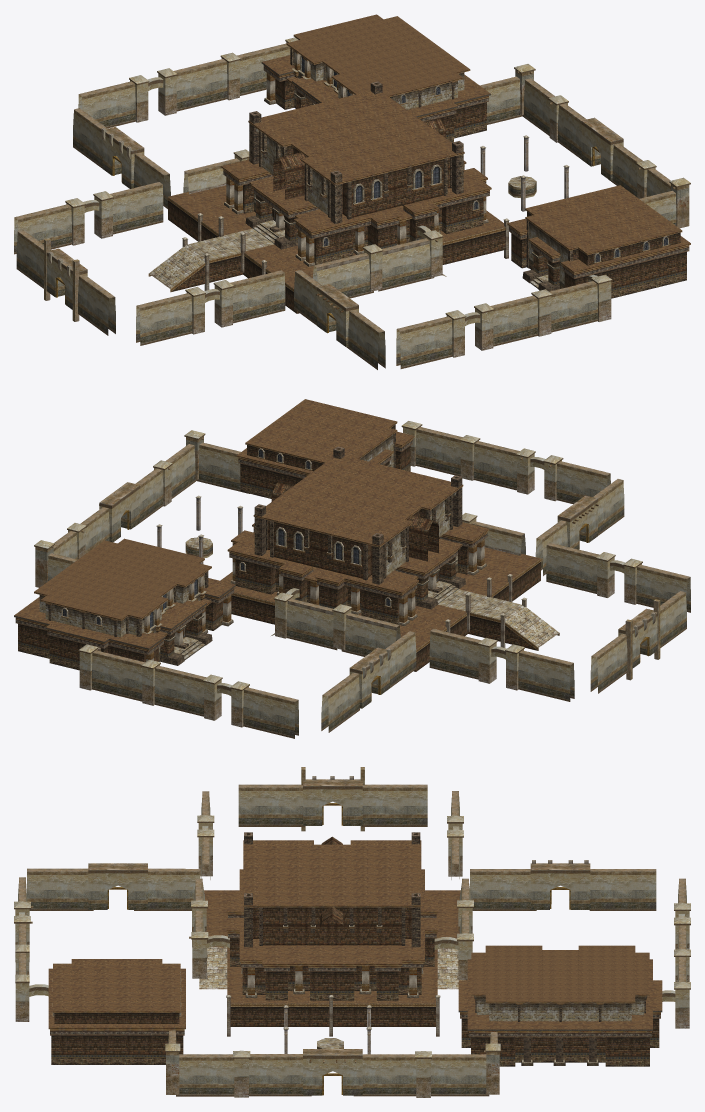
3 views of the same model, one above another, from view 1: azimuth 30°, elevation 25°; view 2: azimuth 150°, elevation 25°; view 3: azimuth 270°, elevation 25° (orthographic). The views are drawn at different scales.
Visible parts, largest first — view 1: ph_gh000; view 2: ph_gh000; view 3: ph_gh000.
Part boxes in pixels (bbox=[...]): ph_gh000: bbox=[14, 14, 690, 369]; ph_gh000: bbox=[14, 399, 690, 738]; ph_gh000: bbox=[14, 767, 690, 1097].
Bounding box in the file's own units: 89.19 × 18.07 × 91.63.
15 materials, 15 textured.
